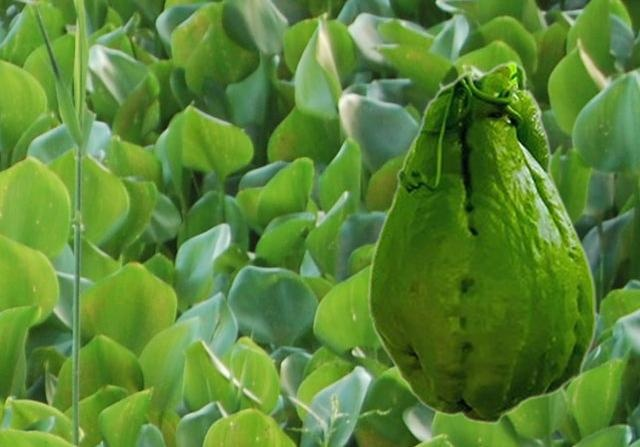sayote: (367, 60, 597, 424)
